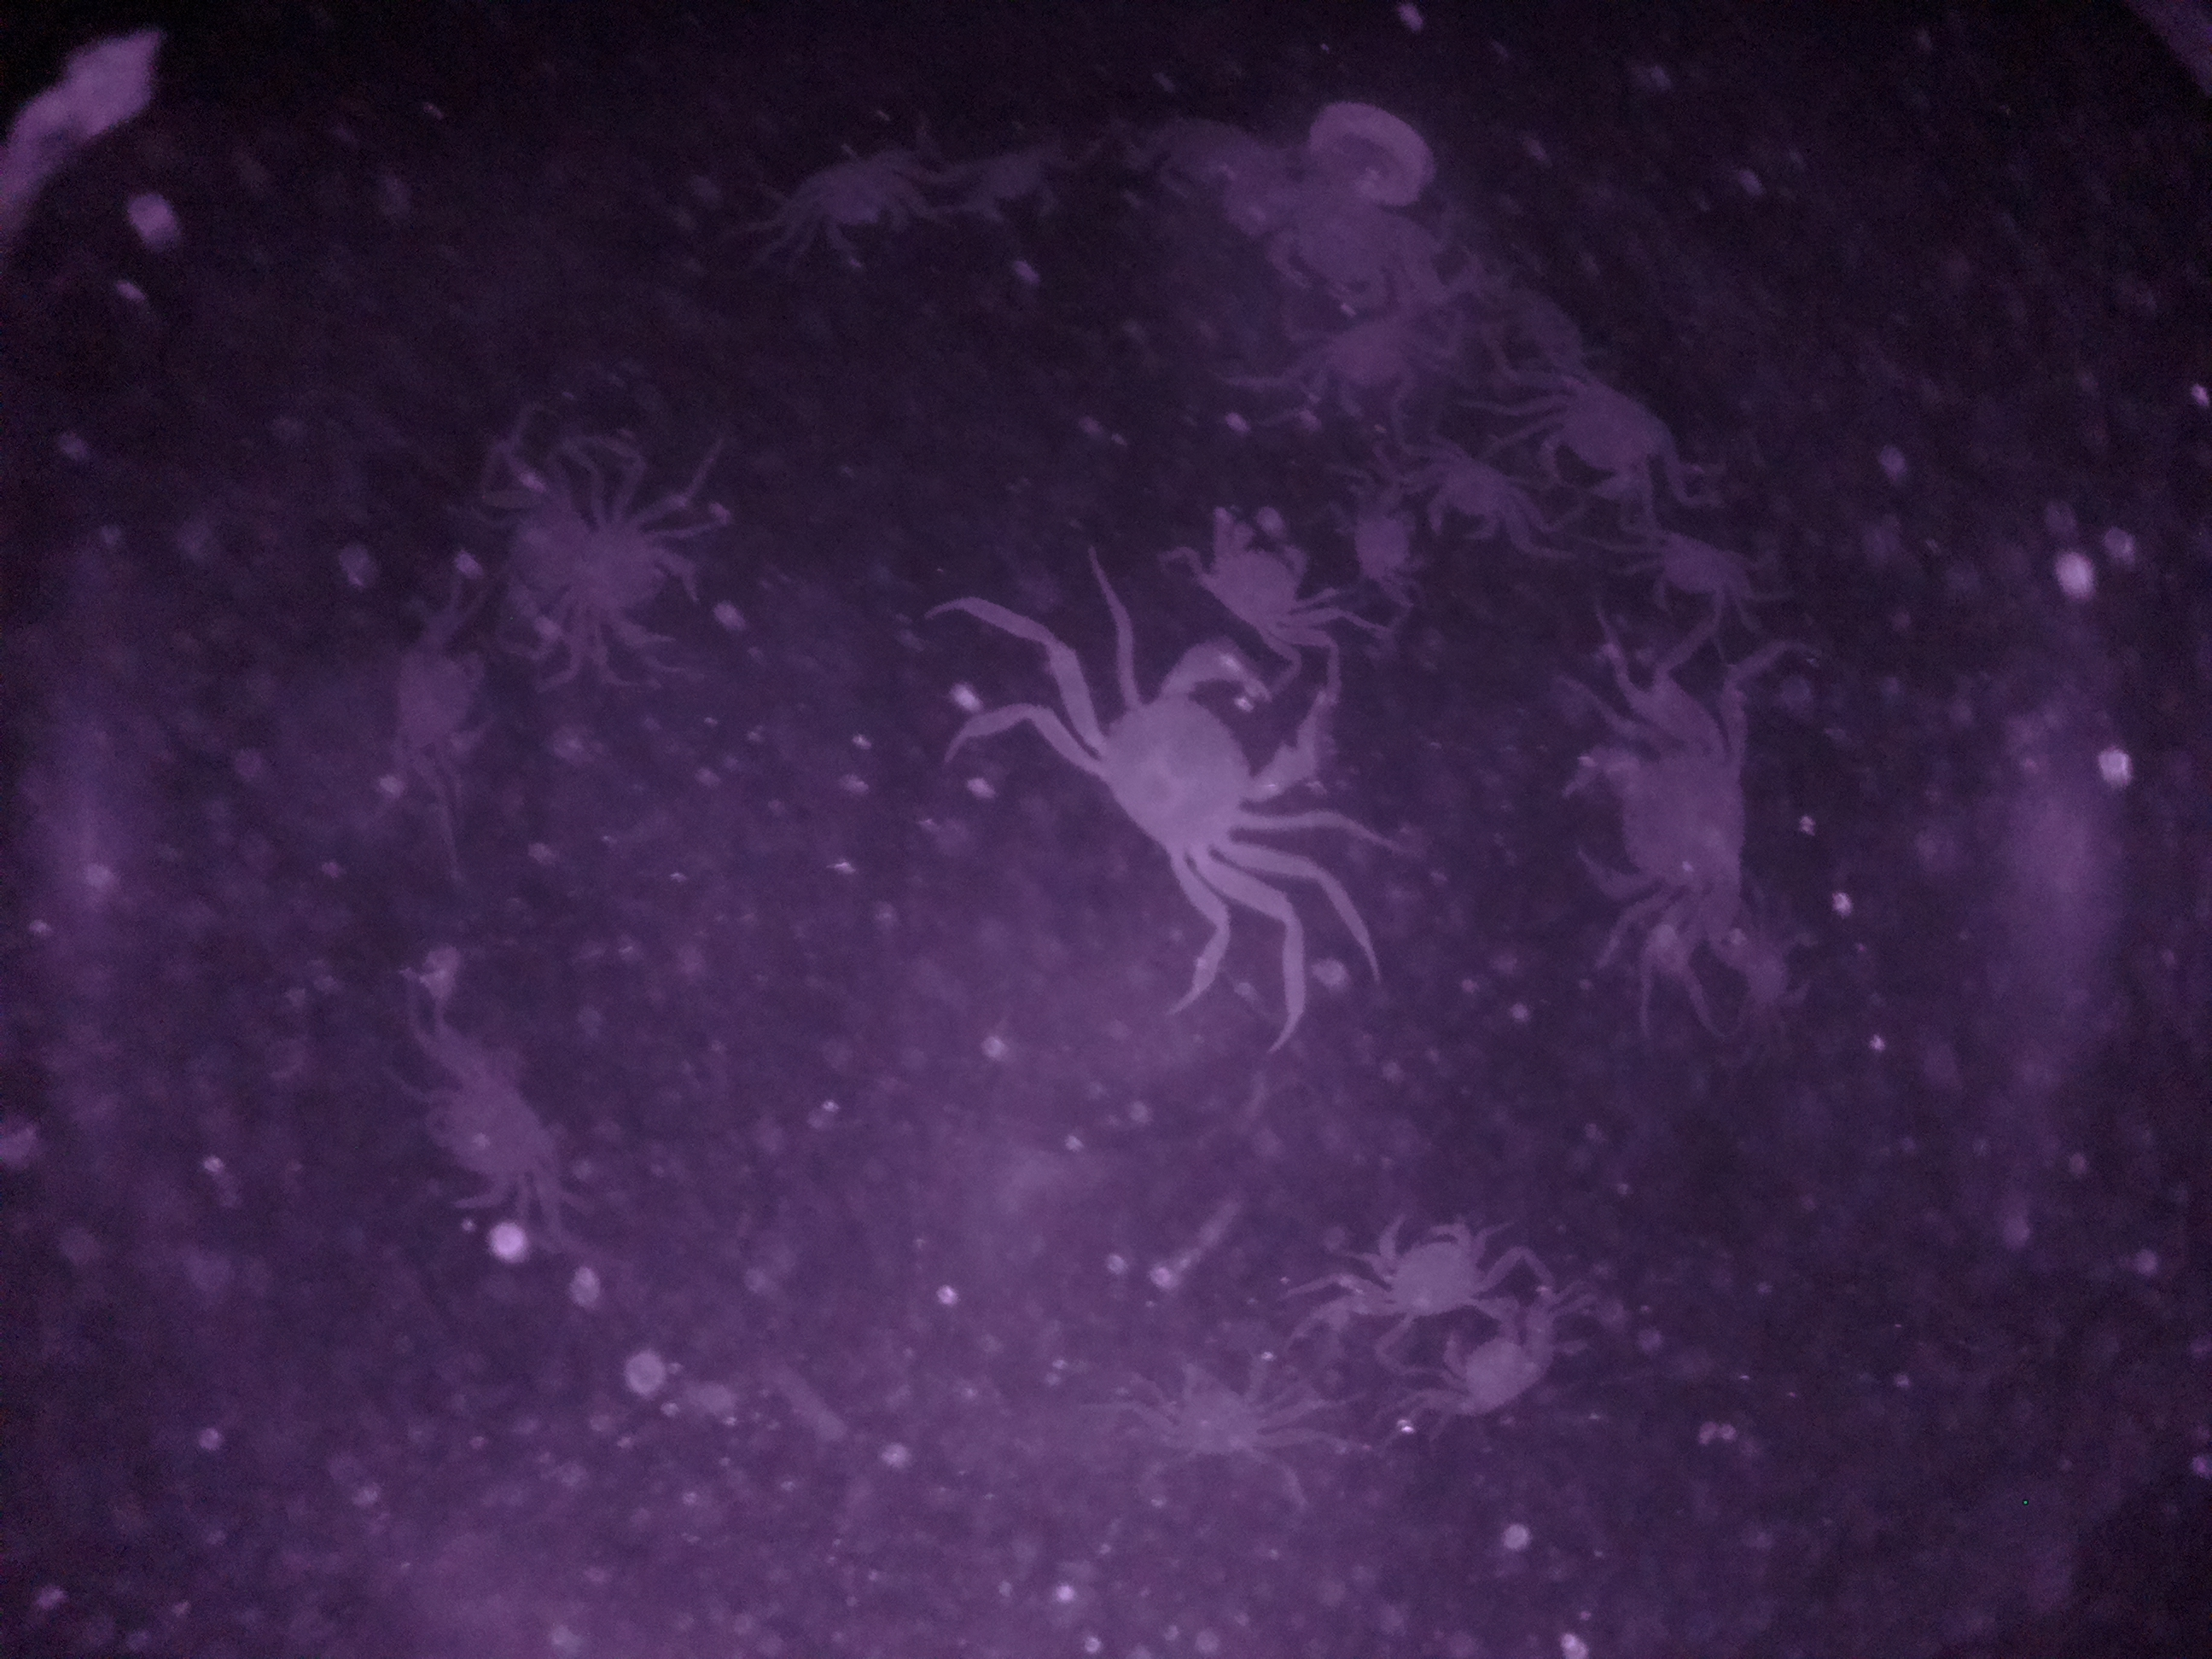Crab: (1047, 660, 1343, 932), (1555, 697, 1768, 957), (399, 1014, 577, 1241), (1507, 359, 1712, 523), (1329, 1204, 1533, 1356), (1190, 500, 1339, 664), (768, 139, 949, 272), (1399, 450, 1571, 565)
